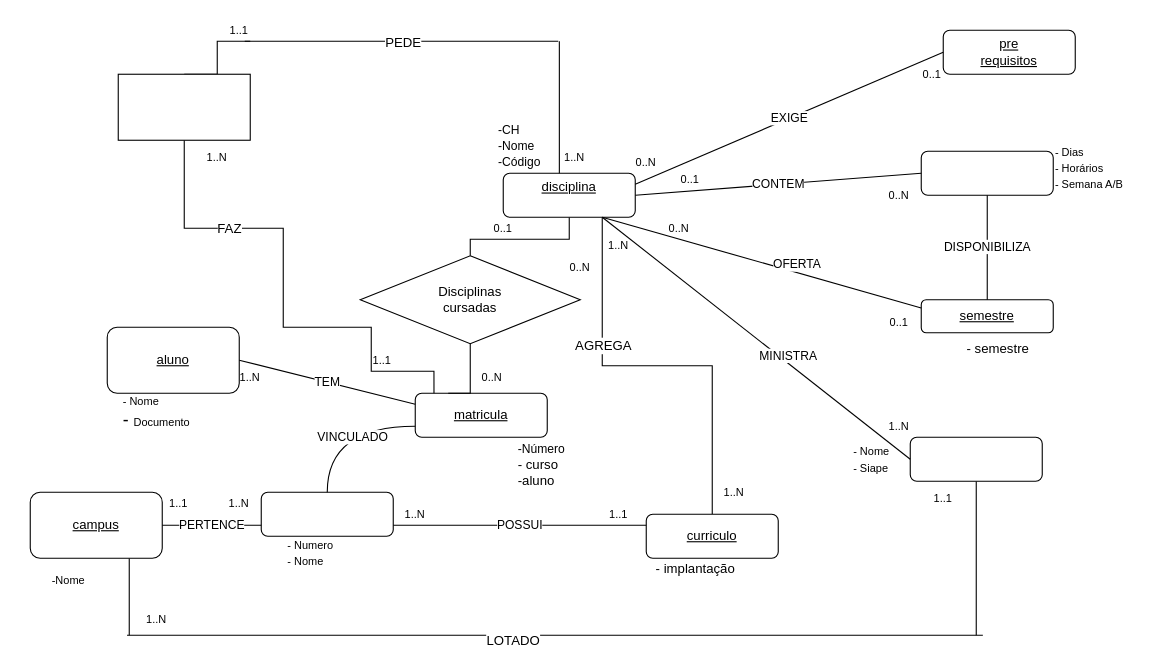
The diagram is 1170 pixels wide and 667 high, and some of its shapes have lost their labels. Here are the shapes that lost their labels. From the top down, the centre of each, then its label:
At (183,106): "Pedido matricula".
At (986,172): "horarios".
At (975,458): "professor".
At (326,513): "Curso".
